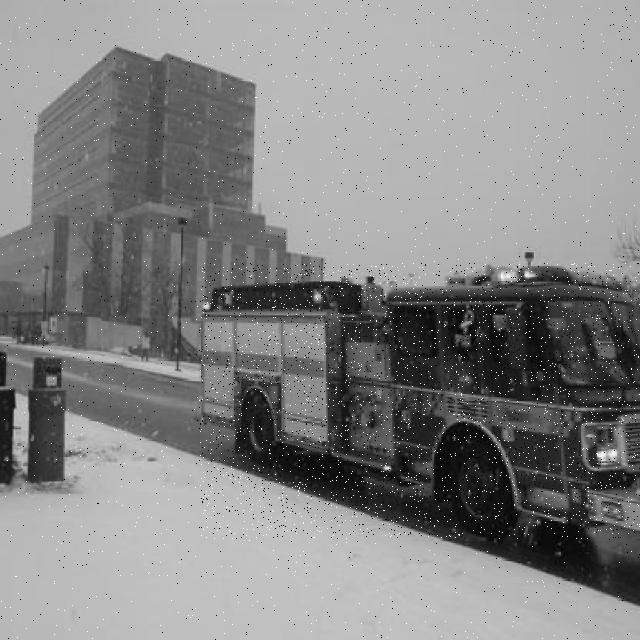Fire Truck: (199, 263, 640, 539)
